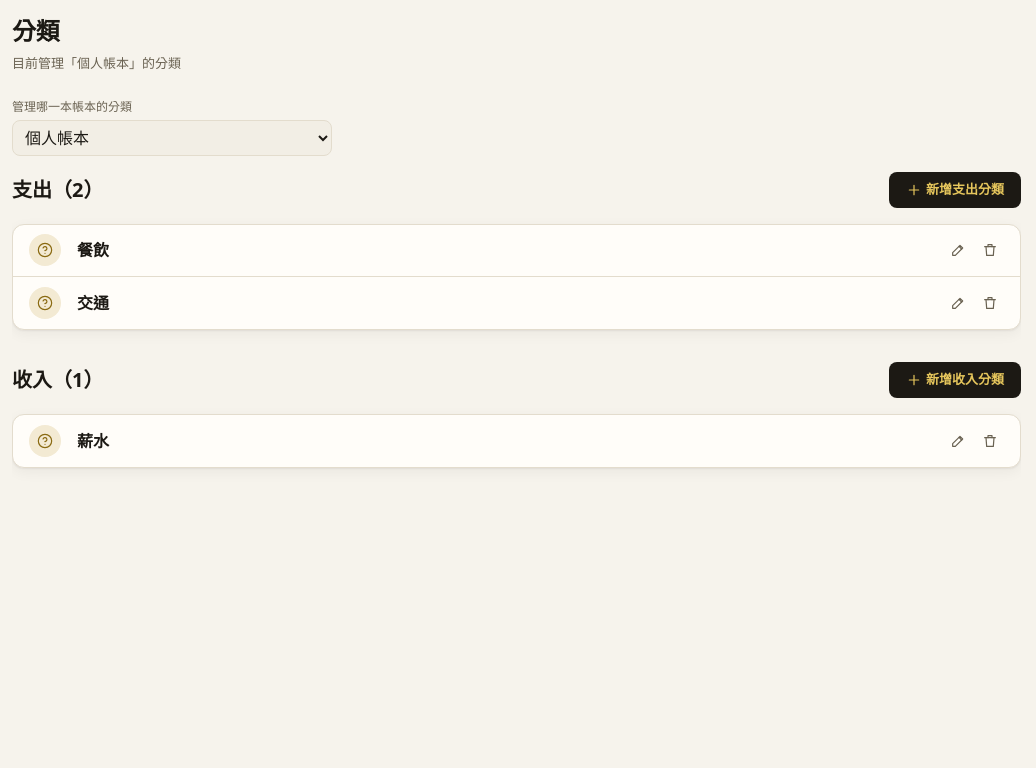
Test: Categories page › switches to another ledger and moves the ledgerId into the URL
The image size is (1036, 768).
Expected: the text "餐飲" is shown, left=77, top=239, right=109, bottom=261
Select "旅遊帳本" in the dropdown labelled "管理哪一本帳本的分類" at (172, 138), box left=12, top=120, right=332, bottom=156
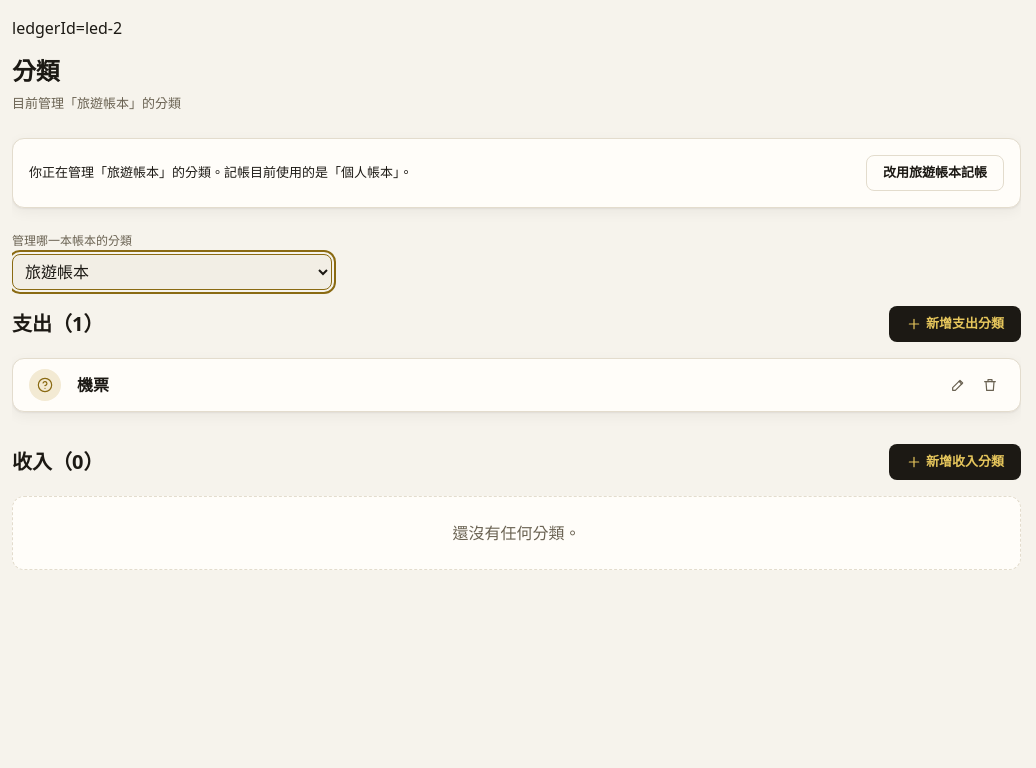
Expected: the text "機票" is shown, left=77, top=374, right=109, bottom=396
Expected: the text "餐飲" is gone
Expected: the text with test id "search" reads "ledgerId=led-2", left=12, top=17, right=122, bottom=39
